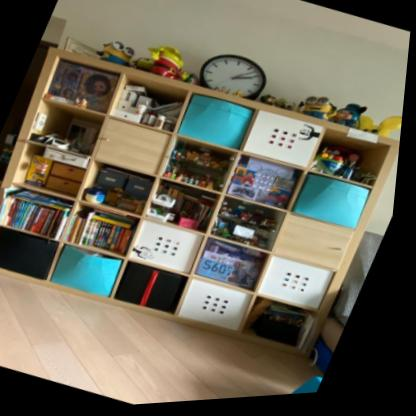Shelf: (0, 23, 413, 386)
